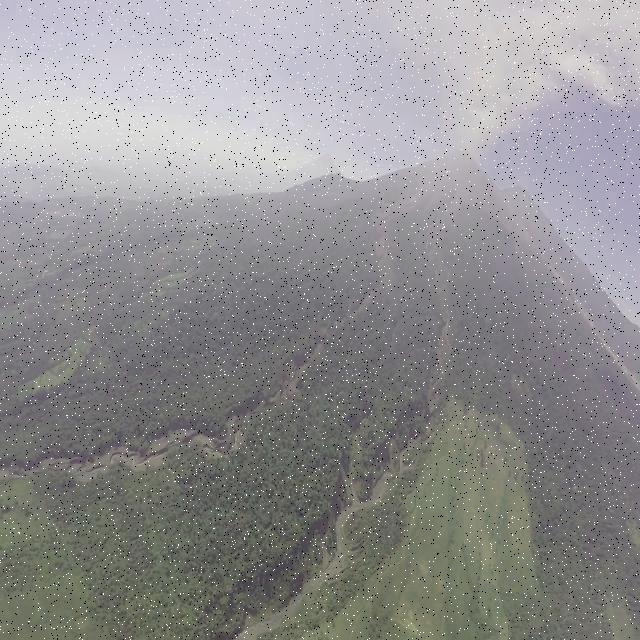Summit: (444, 142, 484, 172)
